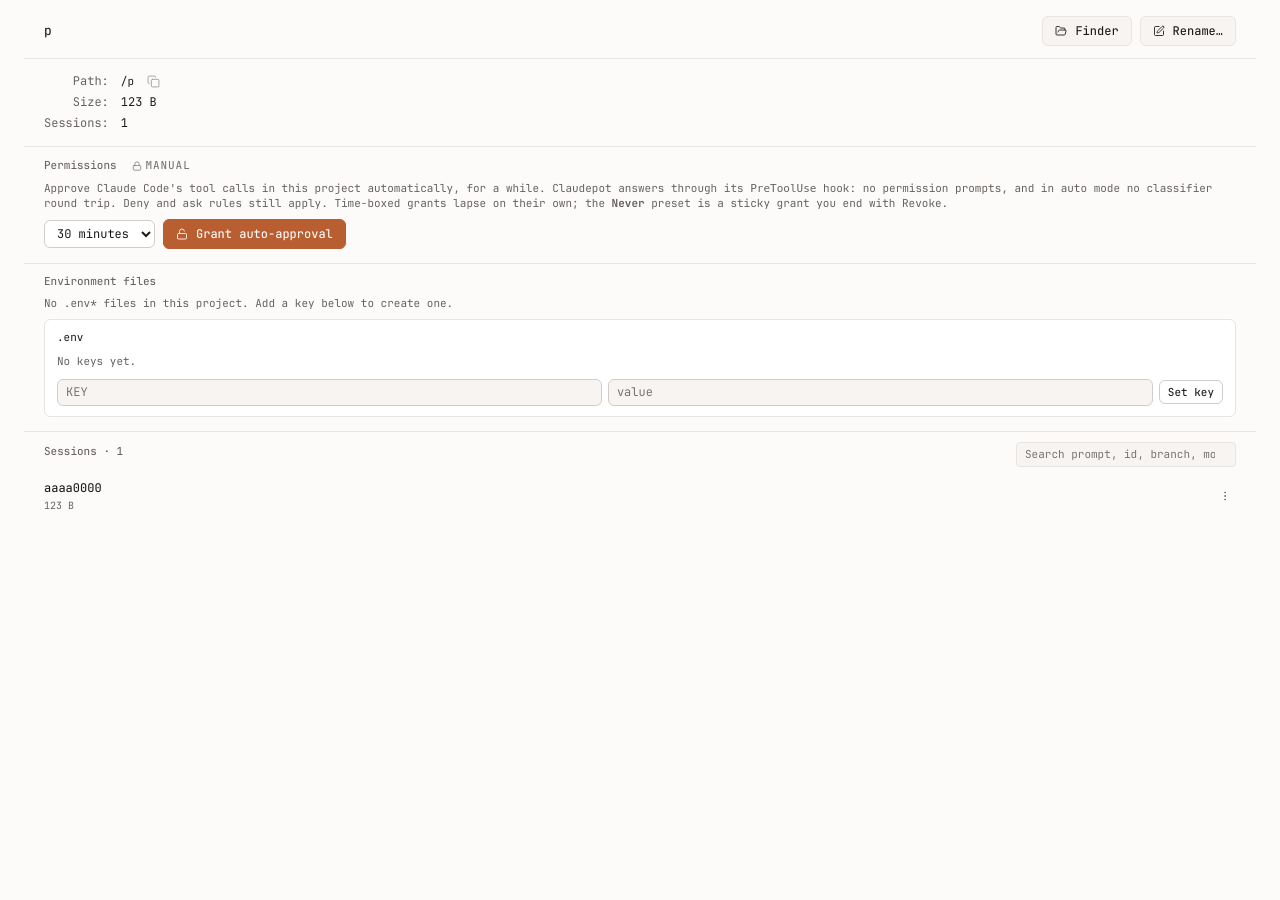
Scenario: ProjectDetail › menu button opens the context menu with a Move action
The width and height of the screenshot is (1280, 900).
What coordinates should you click on to do the following:
click the button named "session actions"
I would click on:
 (1225, 496)
Its box is left=1214, top=485, right=1236, bottom=507.
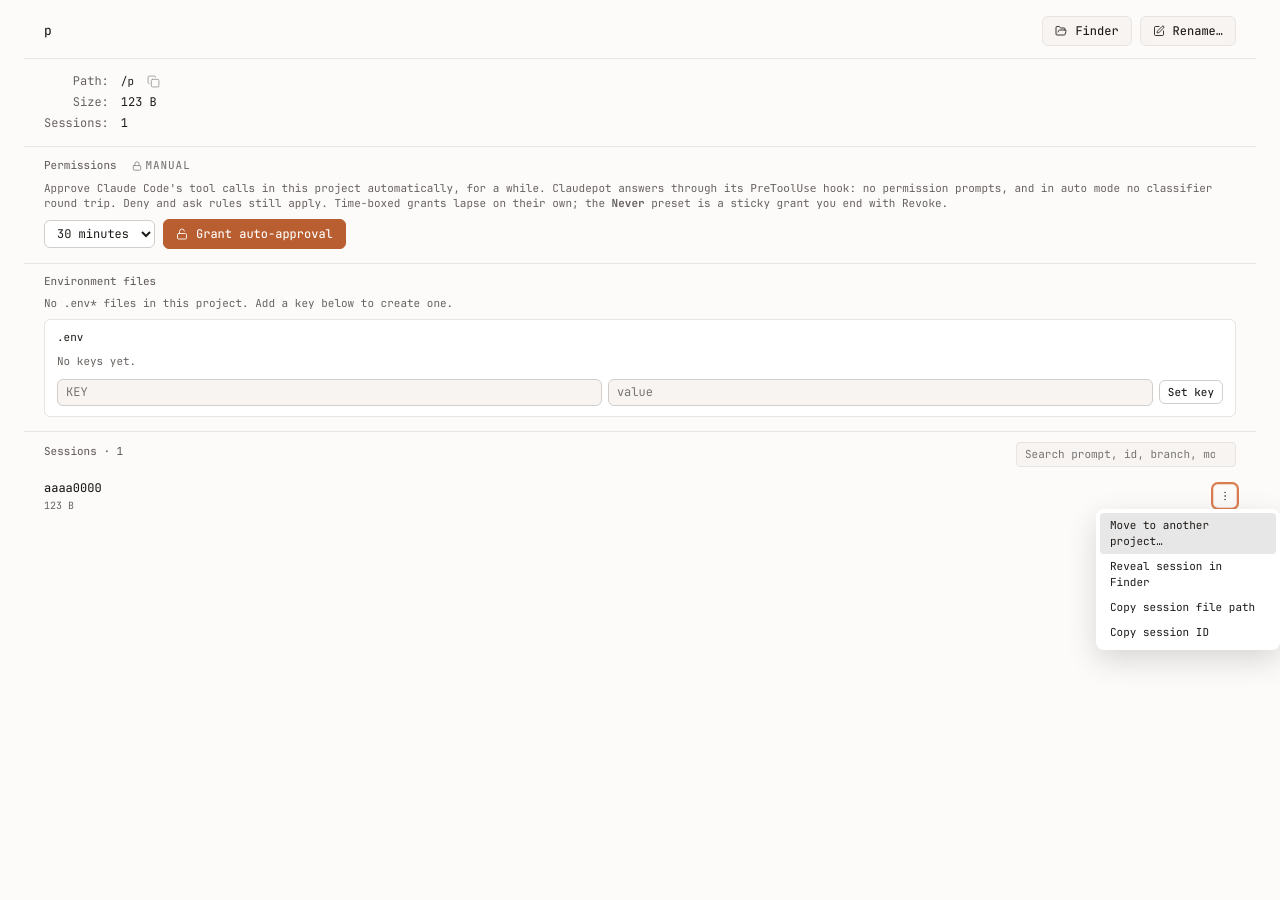
Expected: the text "Move to another project…" is shown, left=1110, top=518, right=1209, bottom=548
